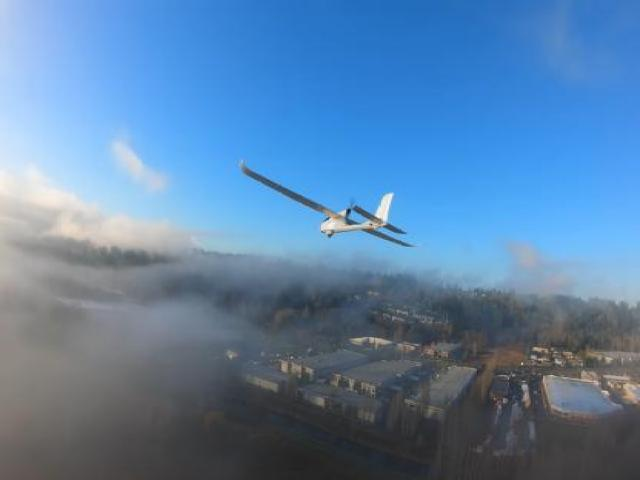uav: (233, 151, 422, 266)
